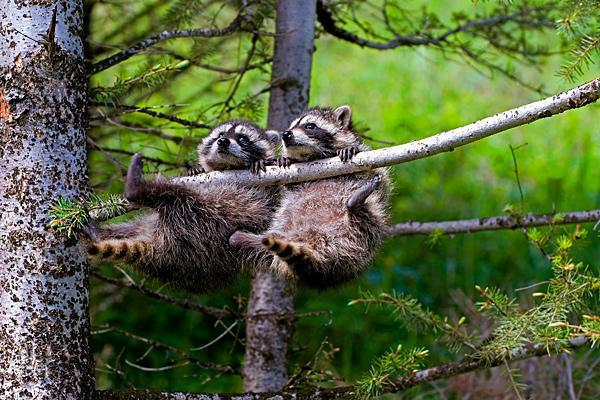raccoon: (69, 108, 286, 300), (224, 94, 405, 300)
